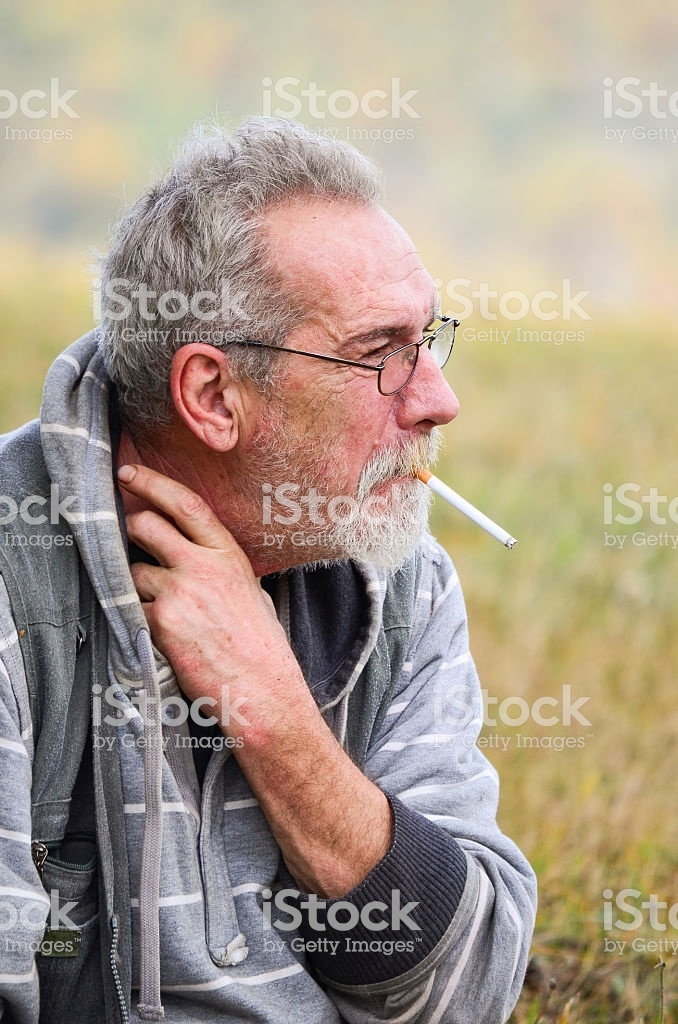sigaretta: (405, 458, 513, 547)
